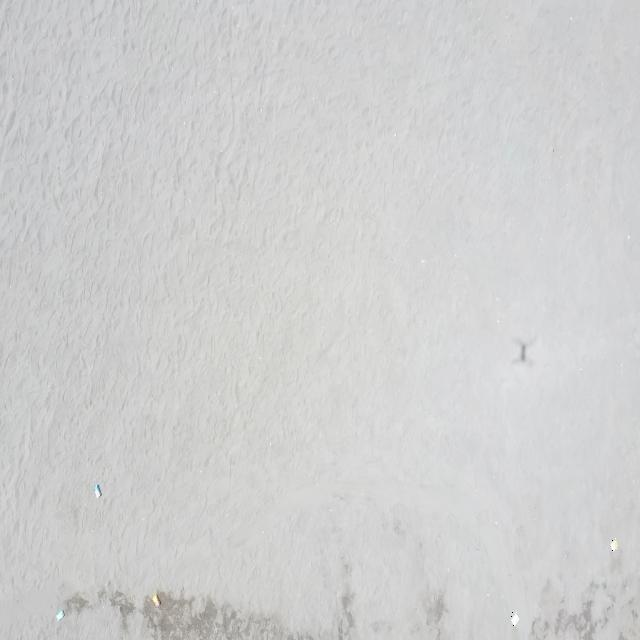Garbage: (510, 612, 519, 626), (151, 592, 159, 607), (609, 537, 617, 551), (55, 608, 64, 620), (94, 484, 100, 496)
